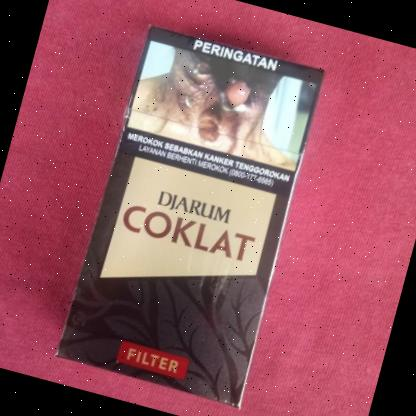bungkus rokok: (48, 8, 338, 414)
